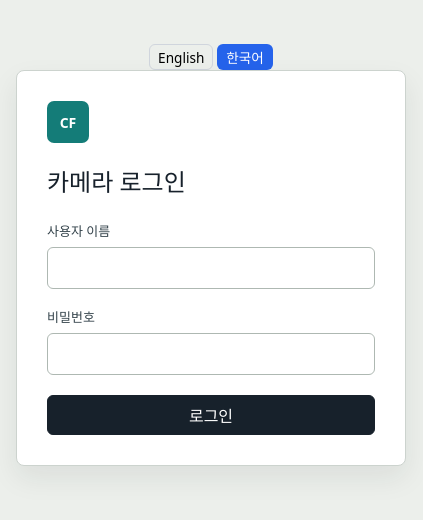
Test: LoginPage › distinguishes a rejected request origin from bad credentials in ko
The width and height of the screenshot is (423, 520).
In the password field labelled "비밀번호": (211, 354) [47,333,375,375], type "NorthStar!9"
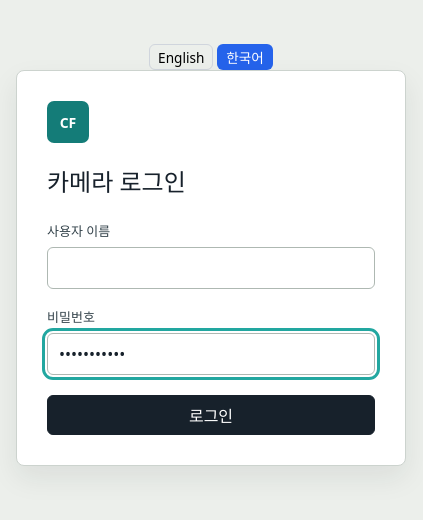
Click the button "로그인": (211, 415) [47,395,375,435]
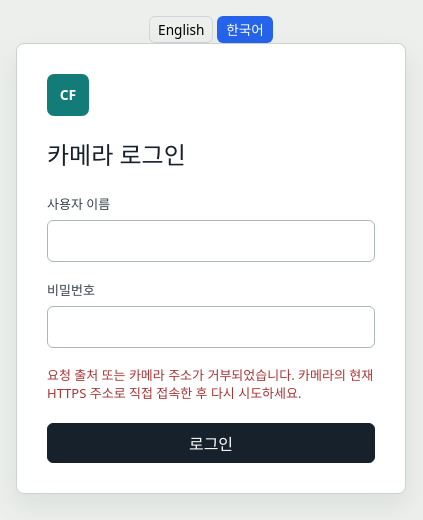
Result: the message reads "요청 출처 또는 카메라 주소가 거부되었습니다. 카메라의 현재 HTTPS 주소로 직접 접속한 후 다시 시도하세요." at [47,366,373,402]
Result: the password field labelled "비밀번호" is empty at [47,306,375,348]
